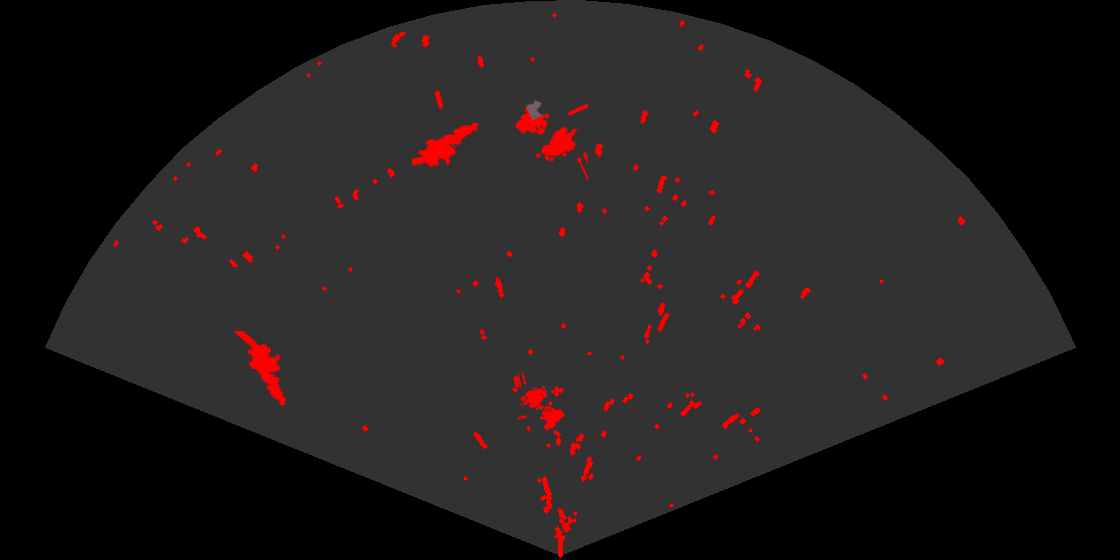cage: (514, 99, 588, 182), (518, 373, 566, 433)
frogman: (232, 331, 288, 407), (412, 121, 480, 169)
